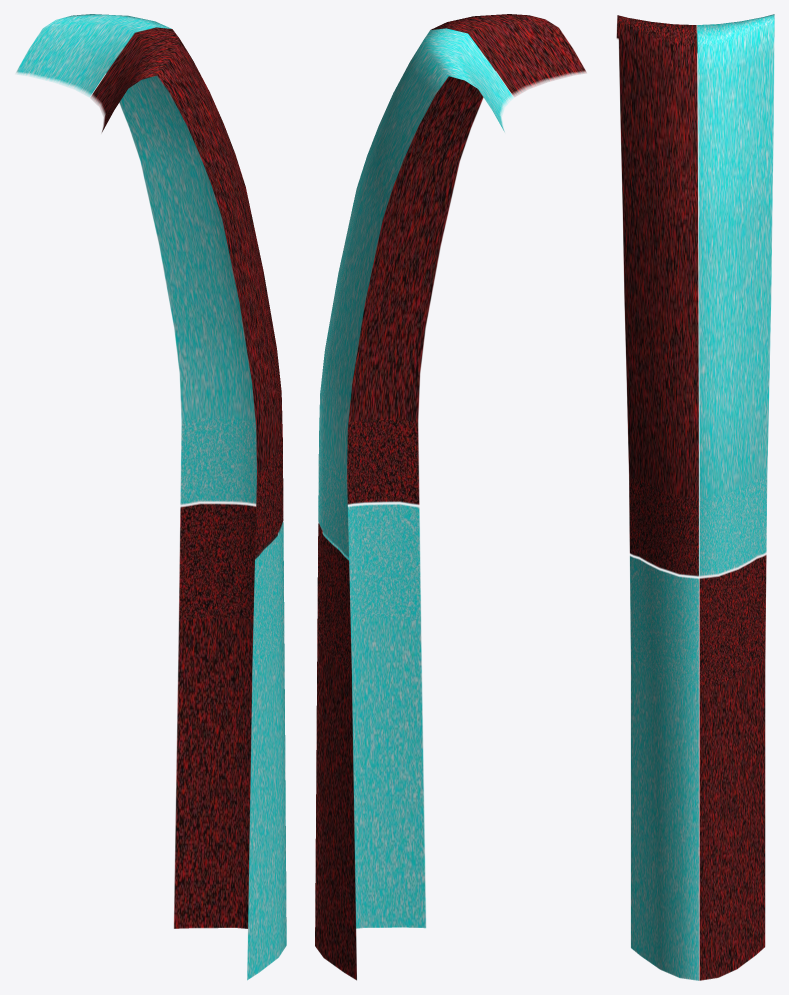
3 views of the same model, side by side, from view 1: azimuth 30°, elevation 25°; view 2: azimuth 150°, elevation 25°; view 3: azimuth 270°, elevation 25° (orthographic). The views are drawn at different scales.
Parts seen in each view (by area): view 1: SM_VFX_Waterfall_LOD0; view 2: SM_VFX_Waterfall_LOD0; view 3: SM_VFX_Waterfall_LOD0.
Boxes of the visible parts, left/top/right/bottom form: SM_VFX_Waterfall_LOD0: left=15, top=14, right=286, bottom=980; SM_VFX_Waterfall_LOD0: left=315, top=14, right=586, bottom=980; SM_VFX_Waterfall_LOD0: left=616, top=14, right=774, bottom=980.
Size of the model in its own units: 0.4523 by 1.78 by 0.2891.
